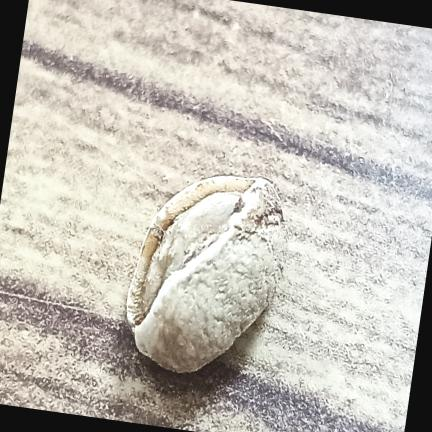broken: (126, 175, 286, 372)
